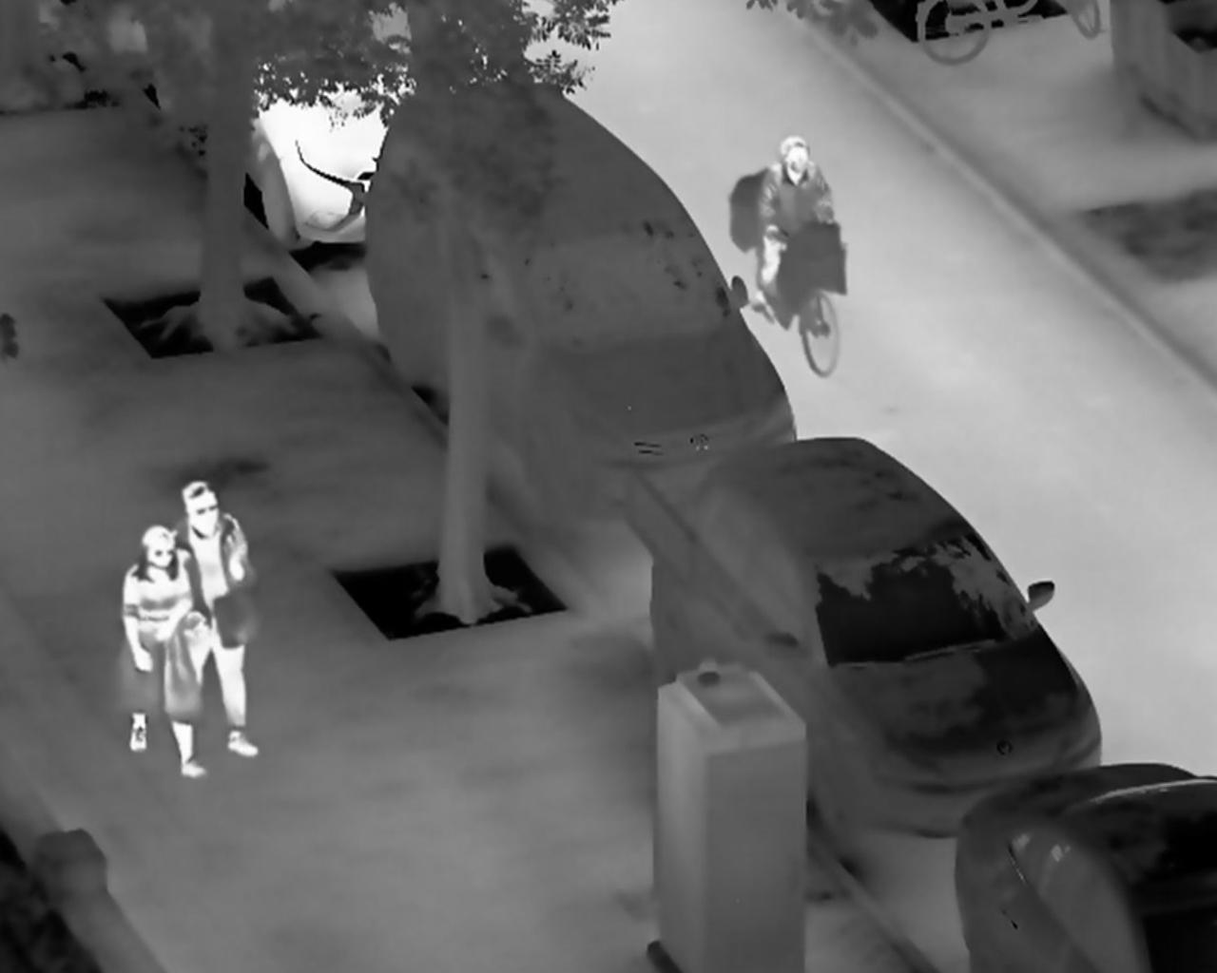person: (172, 476, 263, 761), (119, 525, 211, 781), (750, 134, 841, 323)
